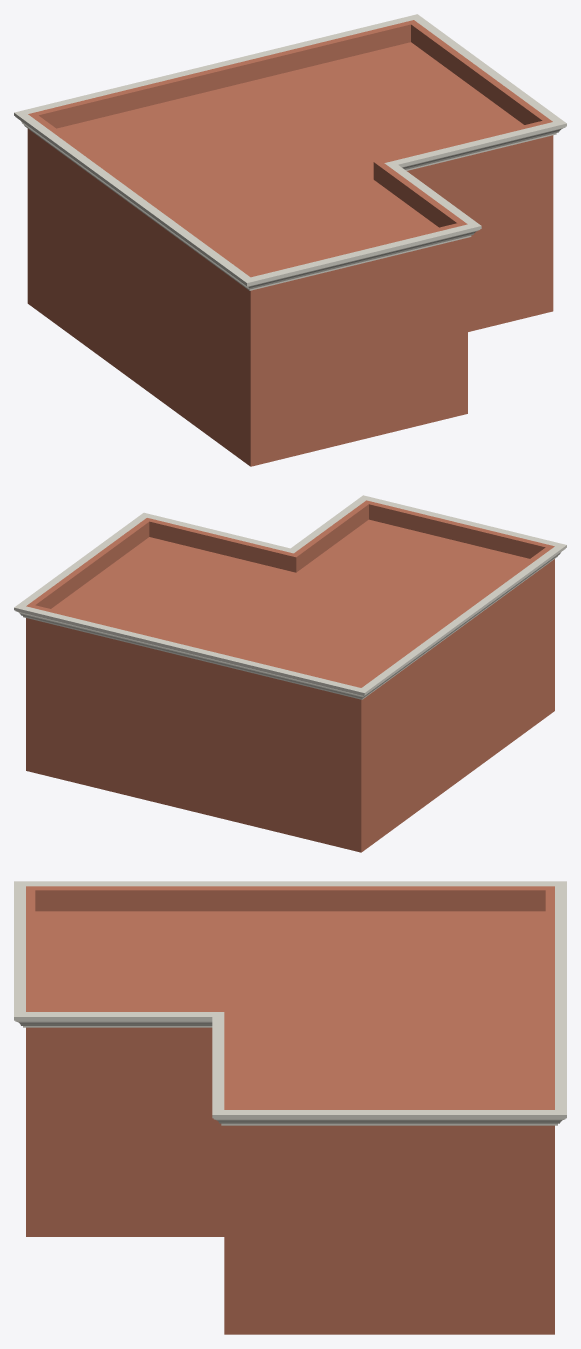
Rendered from building.glb.
The picture shows the model from 3 angles, top to bottom: view 1: azimuth 30°, elevation 25°; view 2: azimuth 150°, elevation 25°; view 3: azimuth 270°, elevation 25°; orthographic projection. The views are drawn at different scales.
Visible parts, largest first — view 1: roof/body:0/roof_slab#0001, body:0/edge0/z0/body:0/edge0/z0/wall_0_0, body:0/edge5/z0/body:0/edge5/z0/wall_0_0, roof/body:0/parapet#0001, body:0/edge2/z0/body:0/edge2/z0/wall_0_0, trim/cornice/0/trim_cornice#0001, body:0/edge3/z0/body:0/edge3/z0/wall_0_0, body:0/edge4/z0/body:0/edge4/z0/wall_0_0; view 2: body:0/edge4/z0/body:0/edge4/z0/wall_0_0, roof/body:0/roof_slab#0001, body:0/edge5/z0/body:0/edge5/z0/wall_0_0, roof/body:0/parapet#0001, trim/cornice/0/trim_cornice#0001, body:0/edge3/z0/body:0/edge3/z0/wall_0_0, body:0/edge0/z0/body:0/edge0/z0/wall_0_0; view 3: roof/body:0/roof_slab#0001, body:0/edge3/z0/body:0/edge3/z0/wall_0_0, body:0/edge1/z0/body:0/edge1/z0/wall_0_0, roof/body:0/parapet#0001, trim/cornice/0/trim_cornice#0001, body:0/edge2/z0/body:0/edge2/z0/wall_0_0, body:0/edge0/z0/body:0/edge0/z0/wall_0_0, body:0/edge4/z0/body:0/edge4/z0/wall_0_0, body:0/edge5/z0/body:0/edge5/z0/wall_0_0.
Part boxes in pixels (x1,y1,x2,y2): roof/body:0/roof_slab#0001: [28, 43, 543, 302]; body:0/edge0/z0/body:0/edge0/z0/wall_0_0: [245, 242, 467, 466]; body:0/edge5/z0/body:0/edge5/z0/wall_0_0: [27, 132, 260, 465]; roof/body:0/parapet#0001: [27, 20, 553, 294]; body:0/edge2/z0/body:0/edge2/z0/wall_0_0: [411, 140, 553, 331]; trim/cornice/0/trim_cornice#0001: [14, 14, 566, 290]; body:0/edge3/z0/body:0/edge3/z0/wall_0_0: [409, 42, 552, 313]; body:0/edge4/z0/body:0/edge4/z0/wall_0_0: [27, 42, 411, 307]; body:0/edge4/z0/body:0/edge4/z0/wall_0_0: [26, 622, 366, 852]; roof/body:0/roof_slab#0001: [26, 521, 554, 705]; body:0/edge5/z0/body:0/edge5/z0/wall_0_0: [353, 562, 554, 852]; roof/body:0/parapet#0001: [26, 500, 554, 703]; trim/cornice/0/trim_cornice#0001: [14, 495, 566, 699]; body:0/edge3/z0/body:0/edge3/z0/wall_0_0: [26, 537, 151, 772]; body:0/edge0/z0/body:0/edge0/z0/wall_0_0: [368, 519, 554, 711]; roof/body:0/roof_slab#0001: [26, 911, 554, 1141]; body:0/edge3/z0/body:0/edge3/z0/wall_0_0: [224, 1131, 554, 1334]; body:0/edge1/z0/body:0/edge1/z0/wall_0_0: [26, 1033, 224, 1236]; roof/body:0/parapet#0001: [26, 886, 554, 1130]; trim/cornice/0/trim_cornice#0001: [14, 881, 566, 1125]; body:0/edge2/z0/body:0/edge2/z0/wall_0_0: [224, 1033, 237, 1334]; body:0/edge0/z0/body:0/edge0/z0/wall_0_0: [26, 911, 38, 1236]; body:0/edge4/z0/body:0/edge4/z0/wall_0_0: [542, 911, 554, 1334]; body:0/edge5/z0/body:0/edge5/z0/wall_0_0: [35, 911, 544, 912].
Size of the model in its own units: 8.36 by 3.75 by 8.36.
